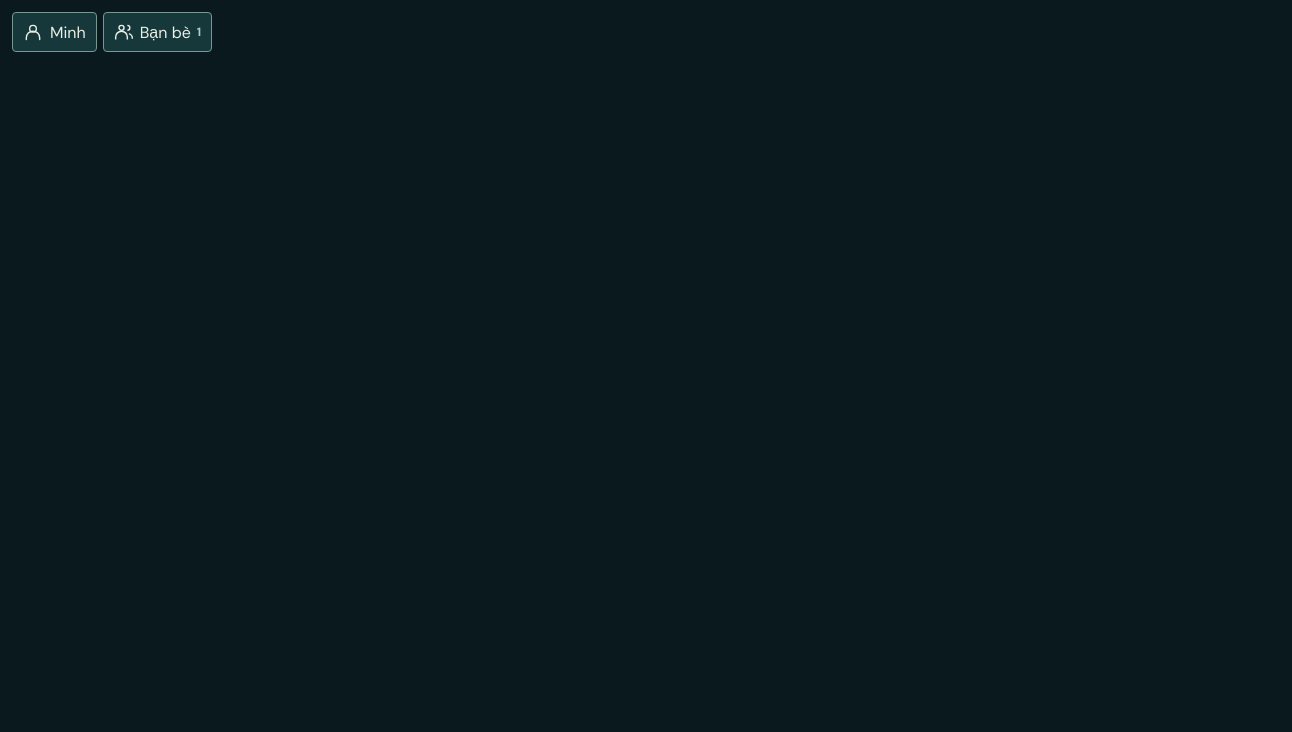
player code and online friends › copies the player code and reports clipboard failure without a false success
Click the button with aria-label "Bạn bè, 1 người online".
click(157, 32)  # box [103,12,212,52]
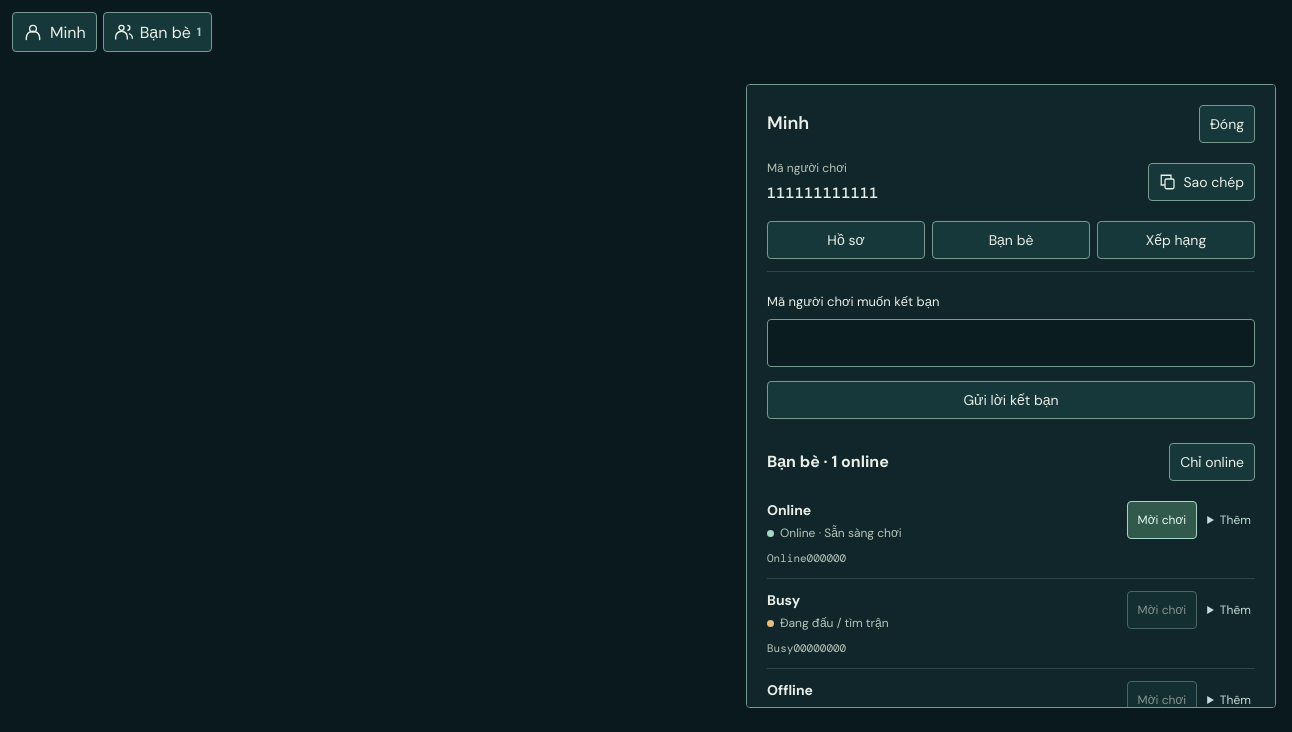
Click the button with aria-label "Sao chép mã người chơi".
click(1202, 182)  # box [1148,163,1255,201]
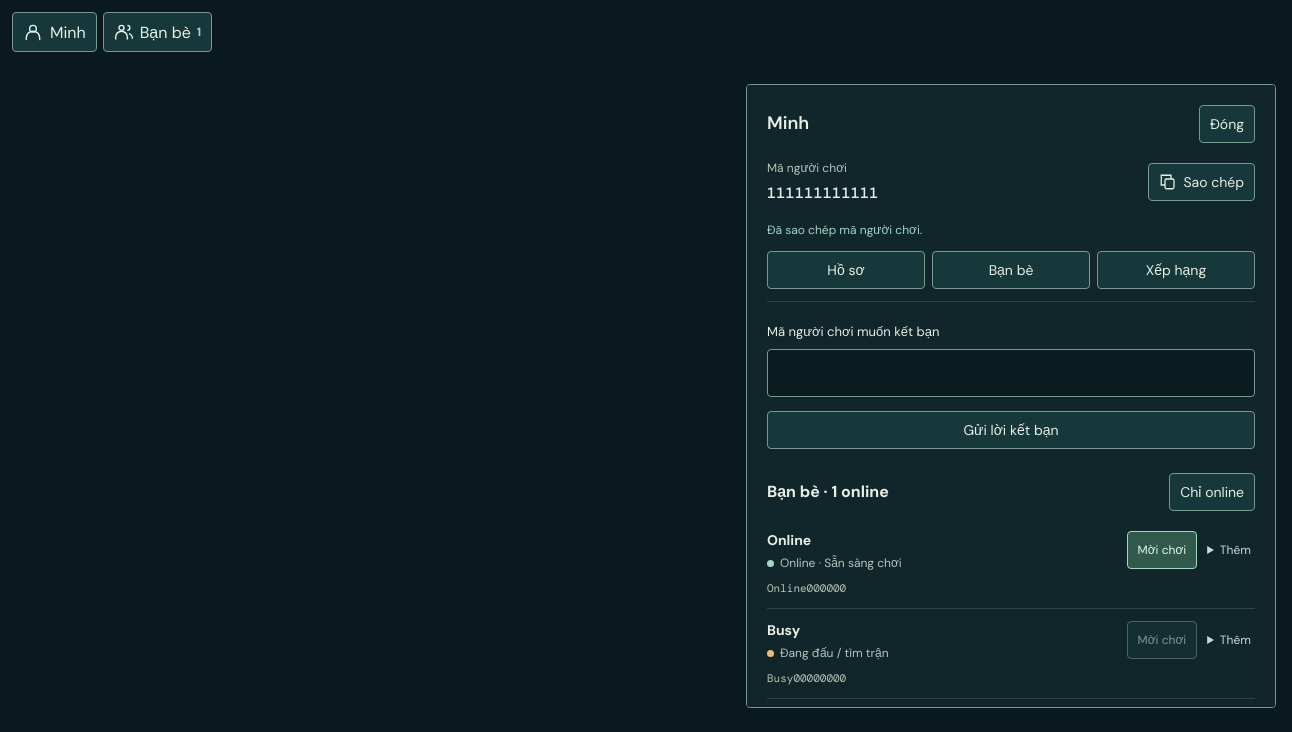
Check: the message reads "Đã sao chép mã người chơi.", box [767,222,922,238]
Click the button with aria-label "Sao chép mã người chơi".
click(1202, 182)  # box [1148,163,1255,201]
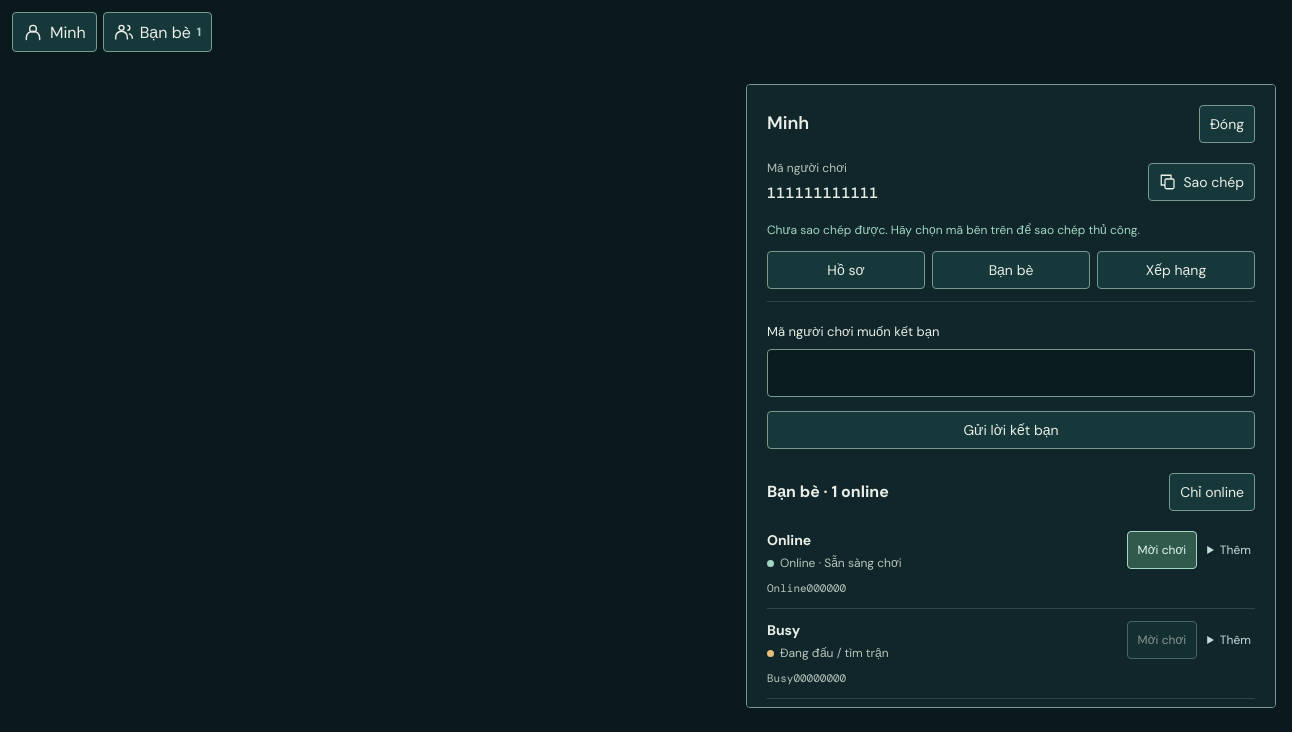
Check: the message shows "Chưa sao chép được", box [767,222,1140,238]
